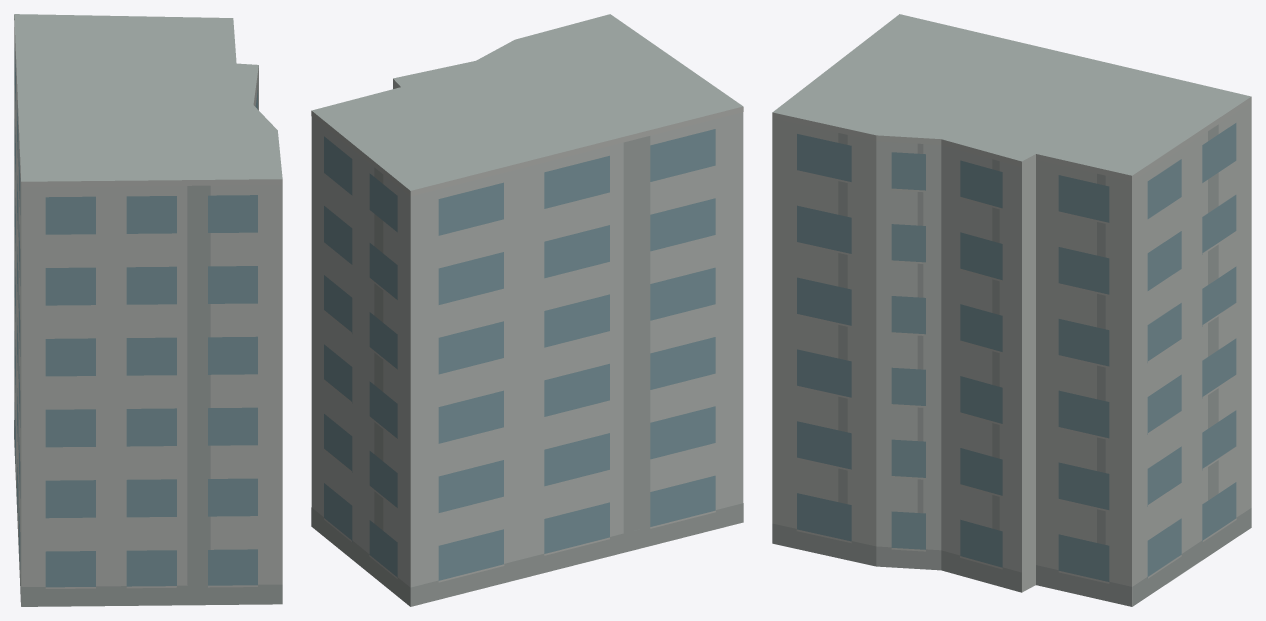
Rendered from survey-upis-32774133.glb.
3 views of the same model, side by side, from view 1: azimuth 30°, elevation 25°; view 2: azimuth 150°, elevation 25°; view 3: azimuth 270°, elevation 25° (orthographic). The views are drawn at different scales.
Visible parts, largest first — view 1: survey-upis-32774133.tmp; view 2: survey-upis-32774133.tmp; view 3: survey-upis-32774133.tmp.
Boxes of the visible parts, box(x1,y1,x2,y2) form: survey-upis-32774133.tmp: box(14, 14, 282, 606); survey-upis-32774133.tmp: box(311, 14, 743, 606); survey-upis-32774133.tmp: box(772, 14, 1251, 606).
Size of the model in its own units: 14.41 by 17.9 by 18.04.
